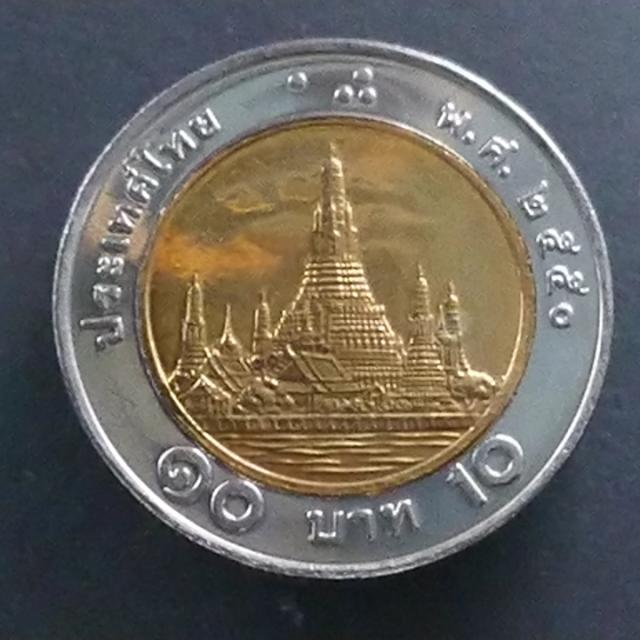10 Bath: (46, 33, 624, 588)
